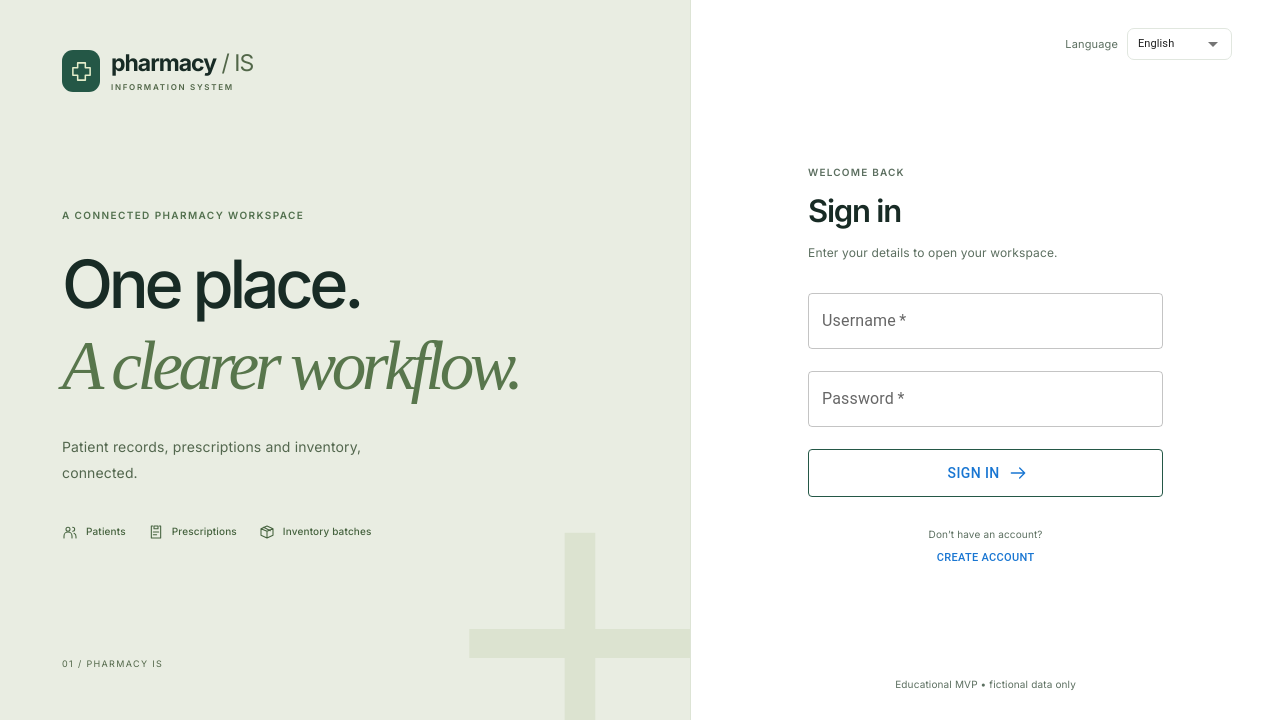
Test: login screen switches language to Kazakh
expect the button "Sign in" is shown: met, box [808,449,1163,497]
Press the mouse on the dropdown at (1156, 44), box [1138,37,1174,50]
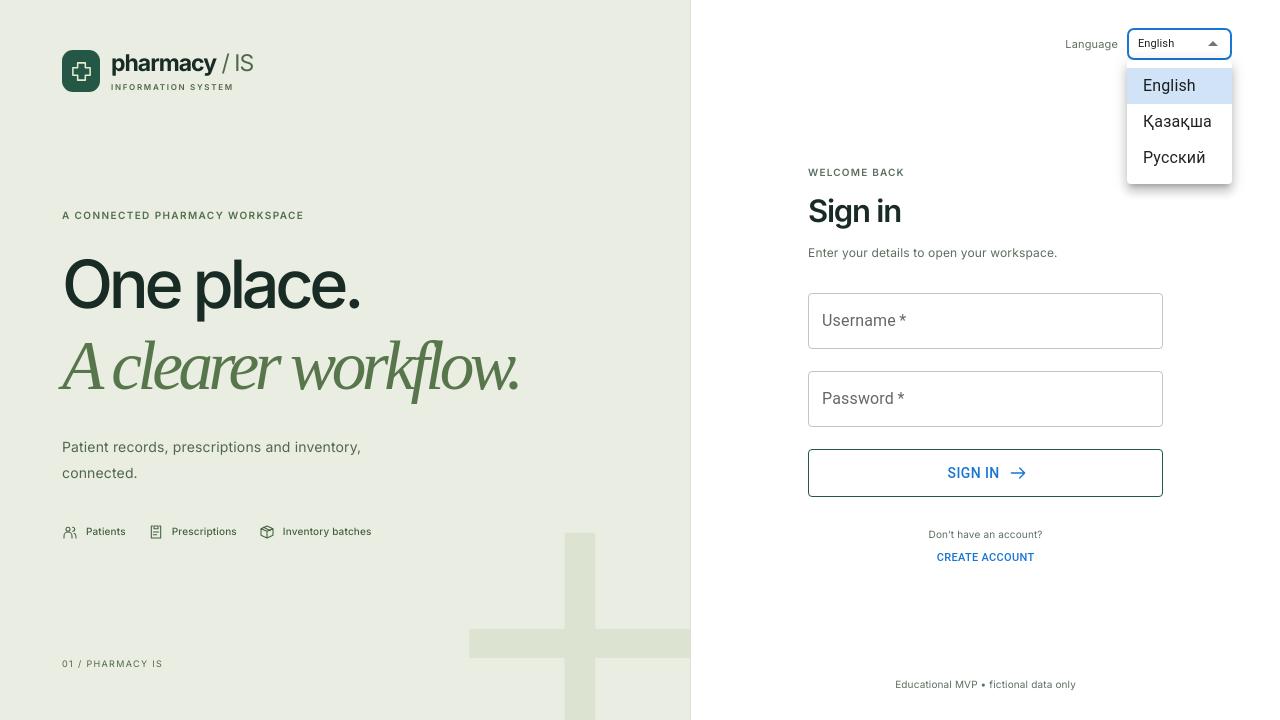
Click the option "Қазақша". click: (1177, 122)
box: [1143,112,1212,131]
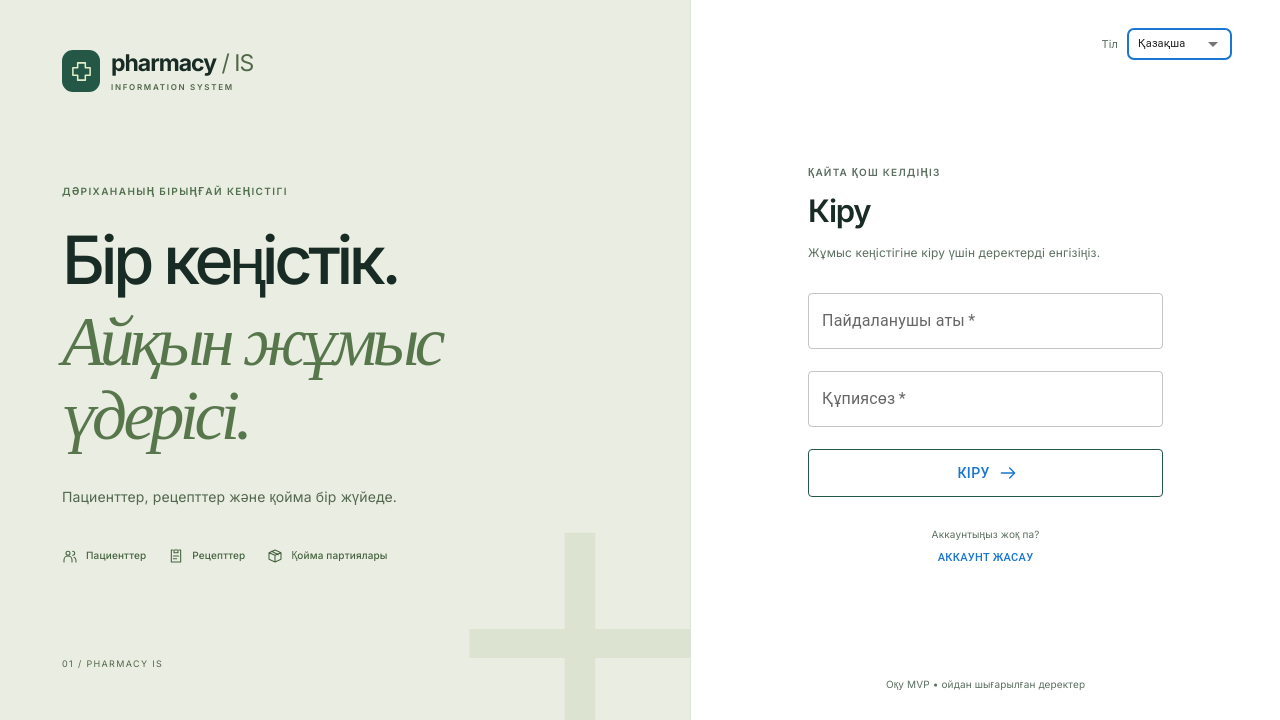
expect the button "Кіру" is shown: met, box [808,449,1163,497]
